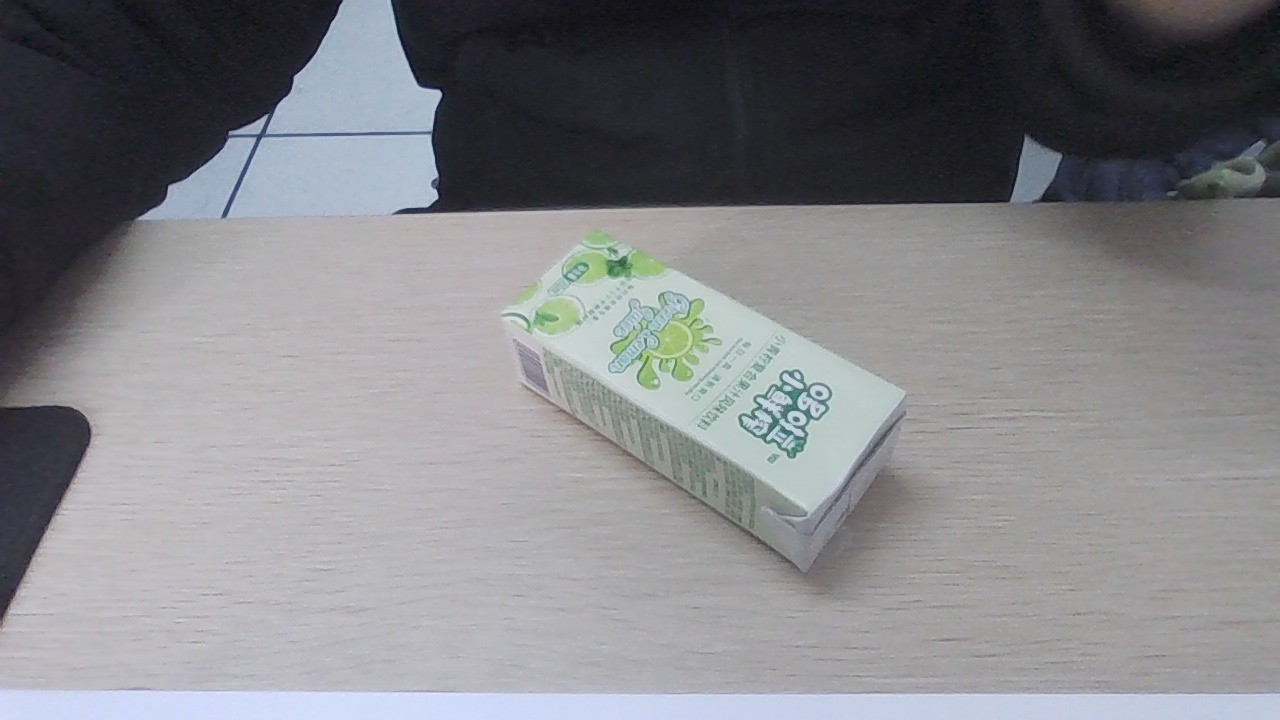CY-drink: (508, 233, 900, 562)
